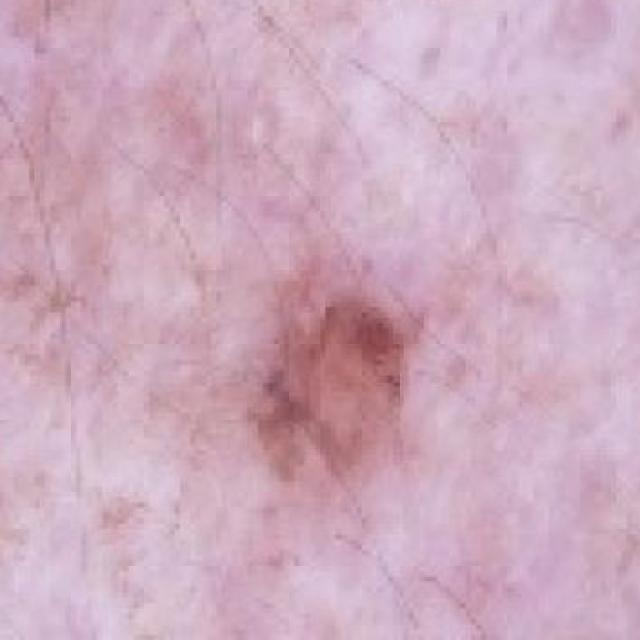BCC: (0, 0, 631, 581)
